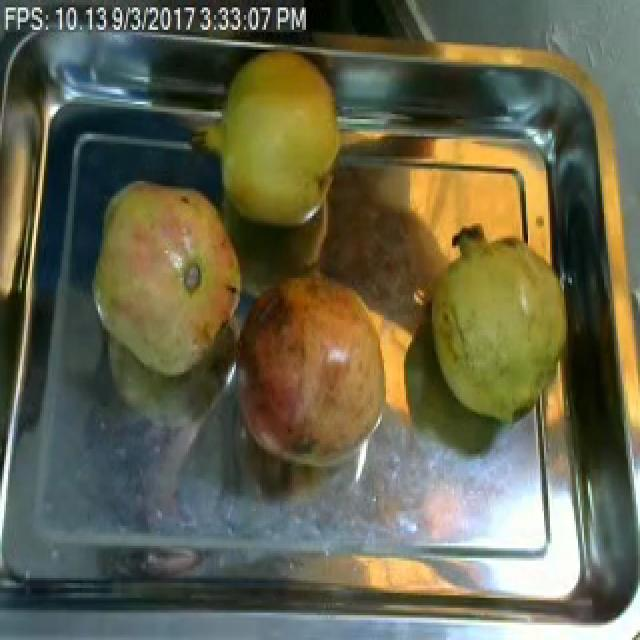fruit: (224, 261, 398, 486), (84, 174, 250, 387), (420, 220, 576, 437), (206, 44, 354, 240)
